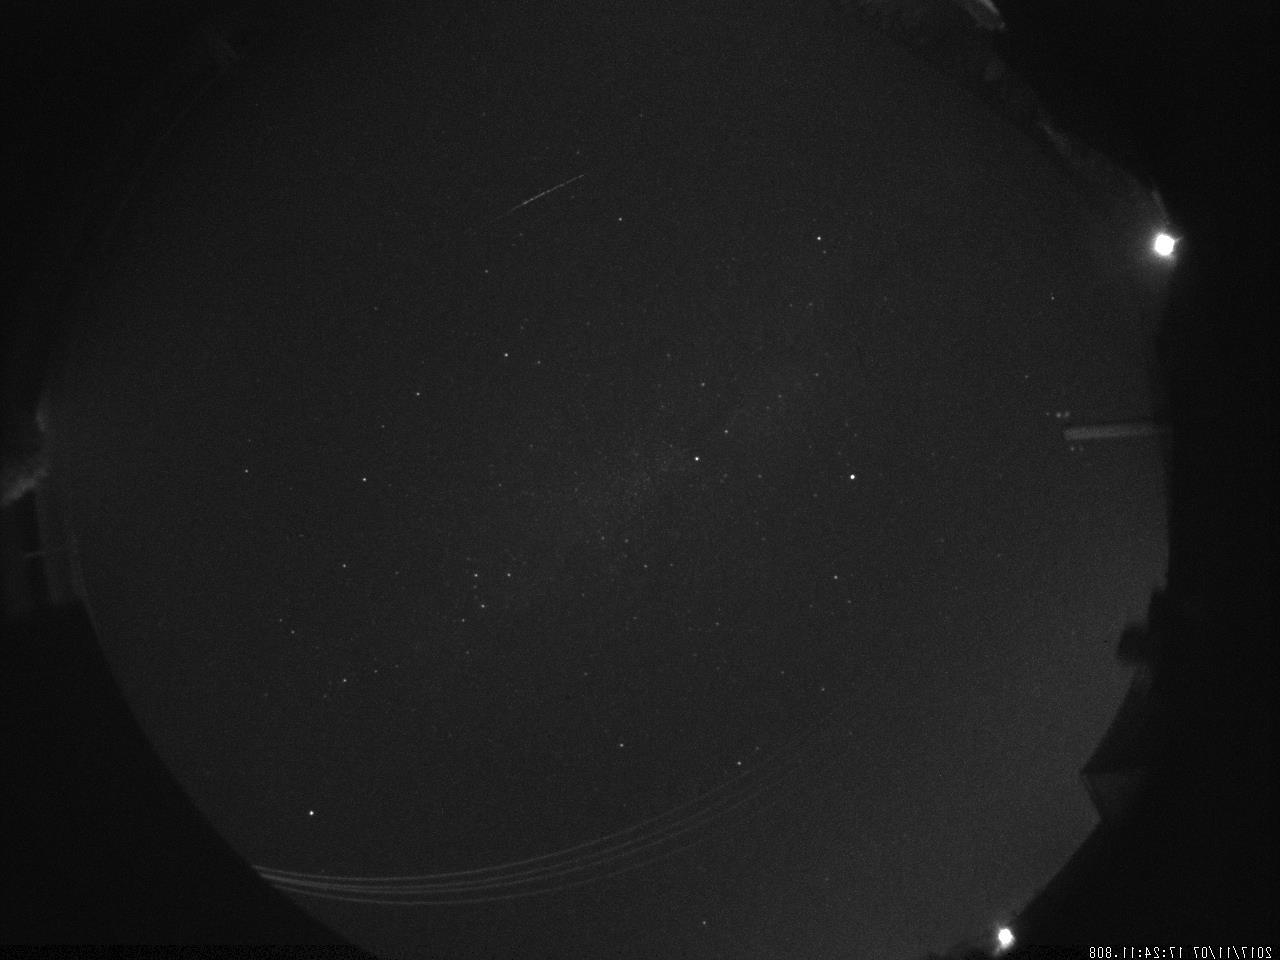meteor: (473, 156, 610, 233)
